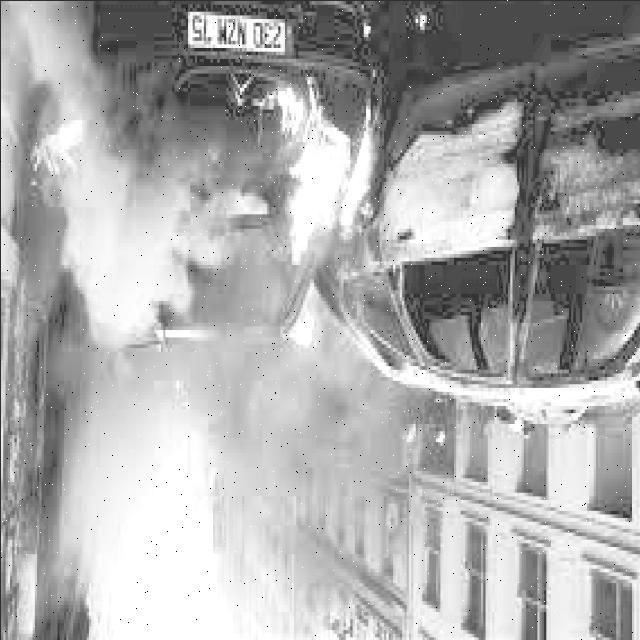api: (242, 63, 395, 273), (22, 109, 94, 200), (276, 280, 337, 363)
